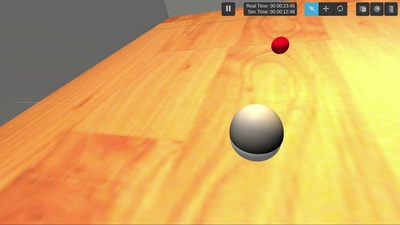mira_robot: (230, 104, 284, 162)
